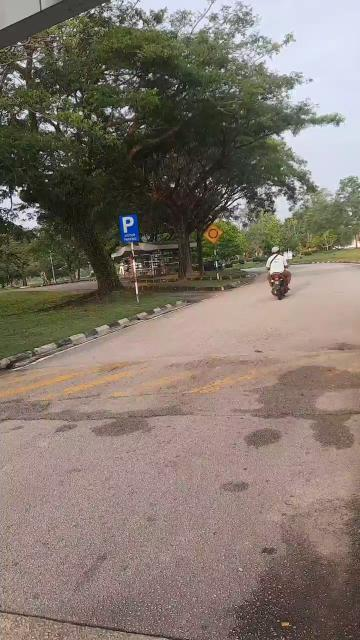motorcycle: (267, 247, 297, 301)
